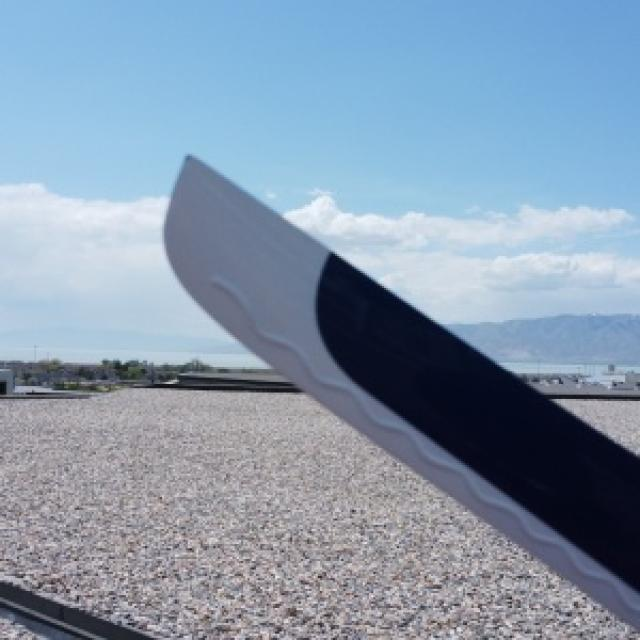healthy: (164, 156, 638, 627)
